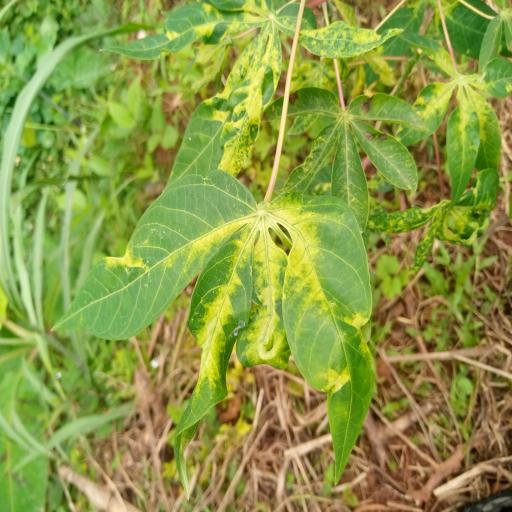Cassava_Mosaic: (46, 165, 380, 489), (114, 0, 367, 106), (267, 82, 430, 235), (407, 30, 512, 202)
